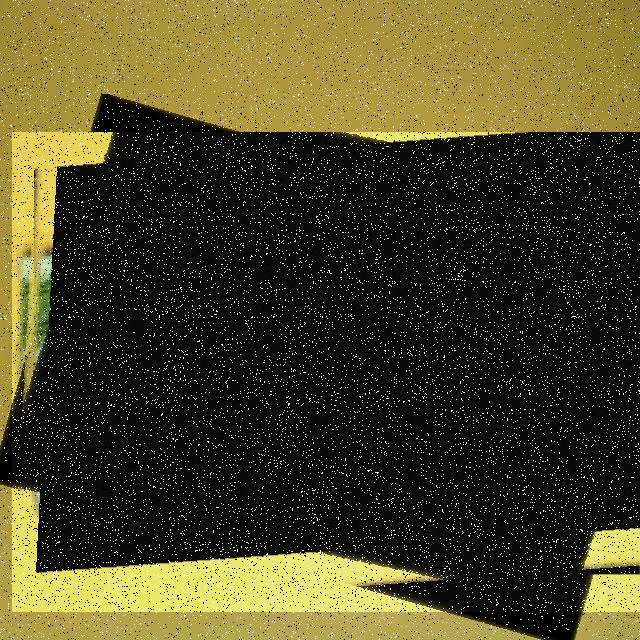dua puluh ribu rupiah: (12, 132, 640, 612)
